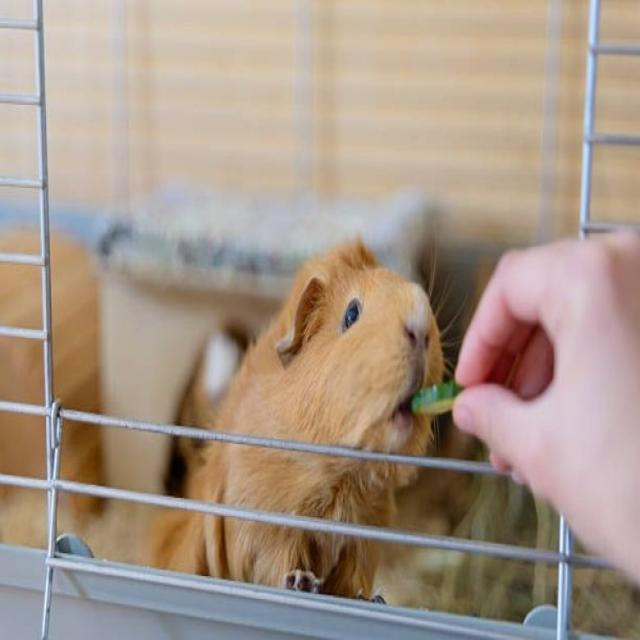guinea pig: (173, 244, 445, 604)
